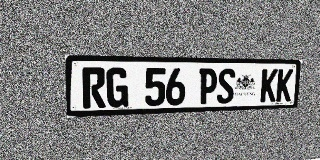5: (145, 68, 166, 106)
6: (166, 68, 186, 106)
G: (106, 68, 128, 108)
K: (260, 69, 278, 102), (276, 69, 293, 102)
P: (198, 68, 218, 104)
R: (82, 67, 106, 108)
S: (216, 68, 236, 104)
